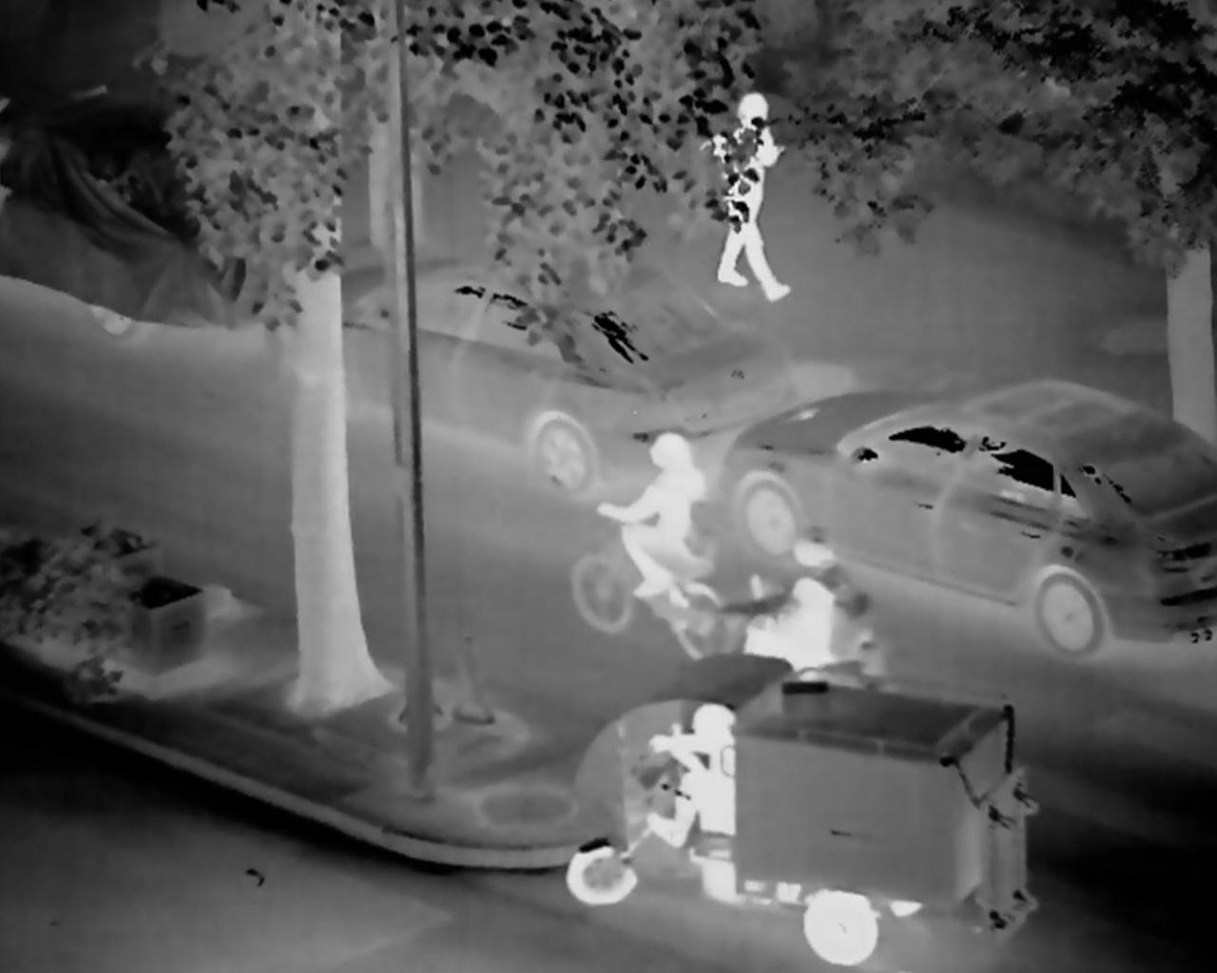person: (590, 427, 717, 626), (702, 85, 804, 308), (649, 701, 756, 868)
